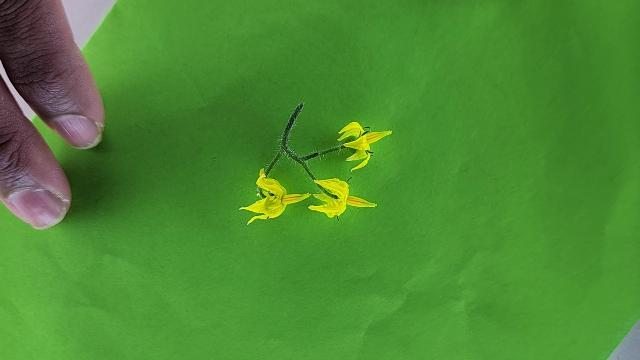Anthesis: (238, 169, 311, 224), (308, 174, 378, 220), (337, 121, 394, 172)
